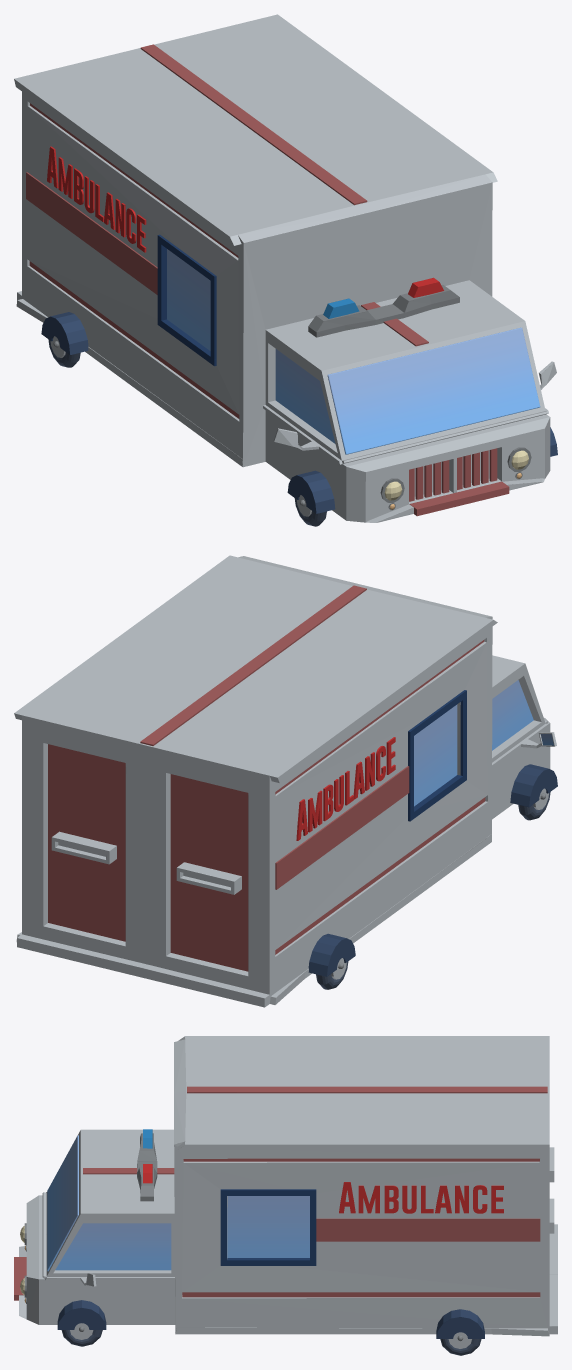
3 renders of one model, top to bottom at view 1: azimuth 30°, elevation 25°; view 2: azimuth 150°, elevation 25°; view 3: azimuth 270°, elevation 25°, orthographic. The views are drawn at different scales.
Visible parts, largest first — view 1: Node; view 2: Node; view 3: Node.
Boxes of the visible parts, x1,y1,x2,y2 form: Node: [14, 14, 557, 526]; Node: [14, 555, 557, 1007]; Node: [14, 1036, 557, 1355].
Bounding box in the file's own units: 151 × 124 × 291.
1 material, 1 textured.
